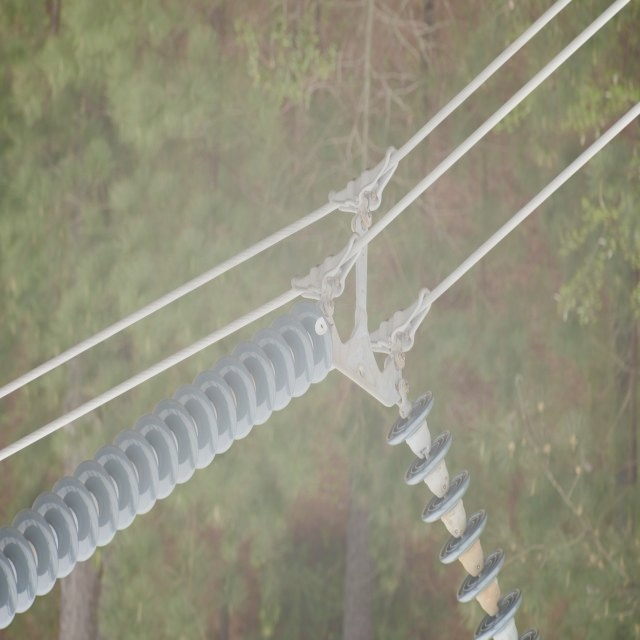broken: (313, 310, 328, 336)
insulator: (0, 302, 334, 628), (388, 388, 541, 640)
